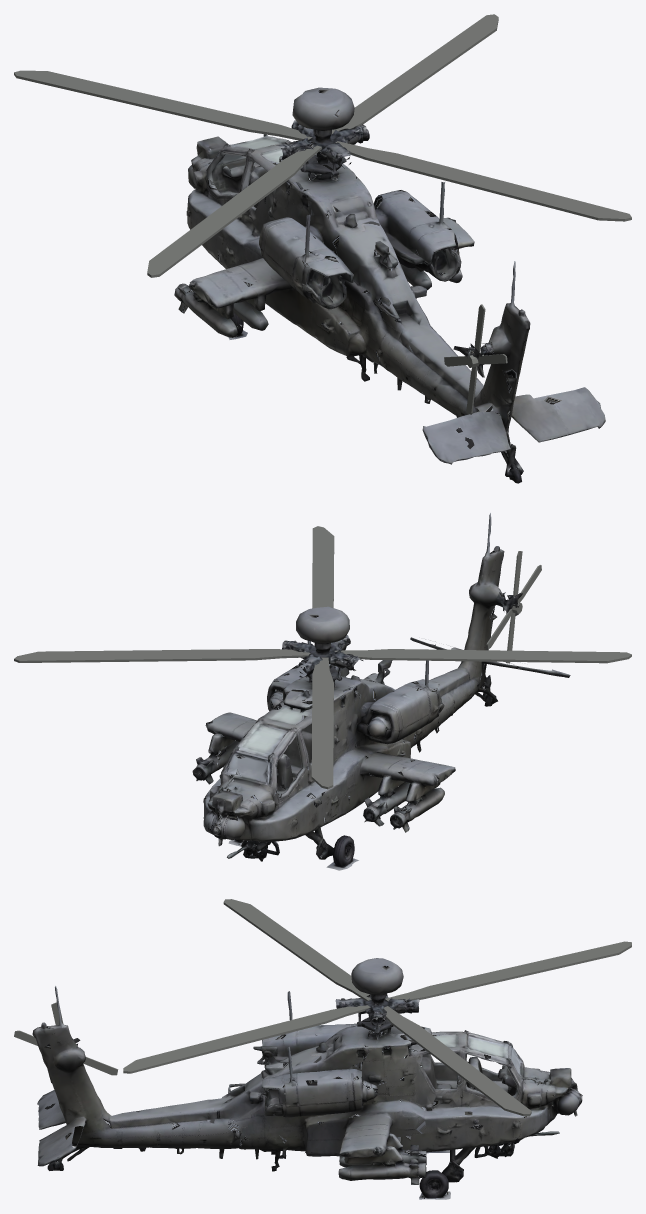
Rendered from ah64e-apache.glb.
The picture shows the model from 3 angles, top to bottom: view 1: azimuth 30°, elevation 25°; view 2: azimuth 150°, elevation 25°; view 3: azimuth 270°, elevation 25°; orthographic projection. The views are drawn at different scales.
Parts seen in each view (by area): view 1: AirframeBody, MainRotor, TailRotor; view 2: AirframeBody, MainRotor, TailRotor; view 3: AirframeBody, MainRotor, TailRotor.
Boxes of the visible parts, x1,y1,x2,y2 form: AirframeBody: (174,87,605,483); MainRotor: (14,14,631,277); TailRotor: (444,304,507,414); AirframeBody: (192,513,570,870); MainRotor: (14,526,631,789); TailRotor: (486,551,541,663); AirframeBody: (32,958,582,1199); MainRotor: (123,899,631,1116); TailRotor: (14,1002,118,1075).
Size of the model in its own units: 7.76 by 3.48 by 9.42.
Materials: 2 (2 with a texture image).
